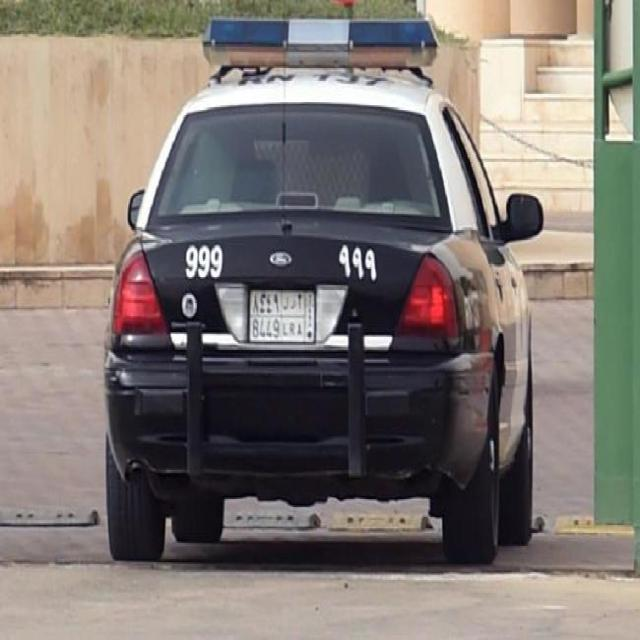license_plate: (242, 277, 318, 350)
